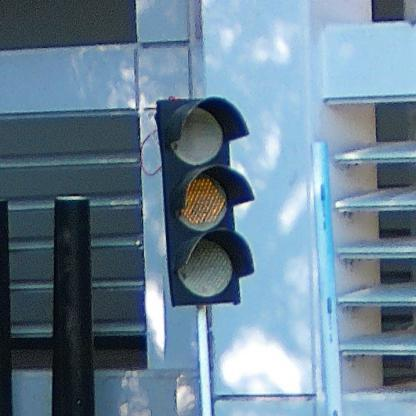yellow: (157, 97, 254, 307)
